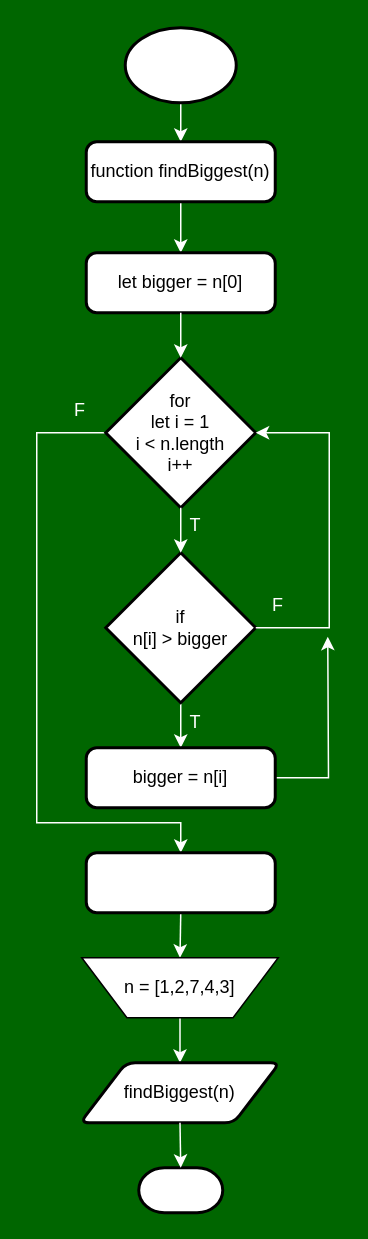
The diagram is 368 pixels wide and 1239 high, and some of its shapes have lost their labels. Here are the shapes that lost their labels. From the top down, the centre of each, then its label:
At pixel 180 65: "start".
At pixel 180 882: "return bigger".
At pixel 180 1190: "end".
